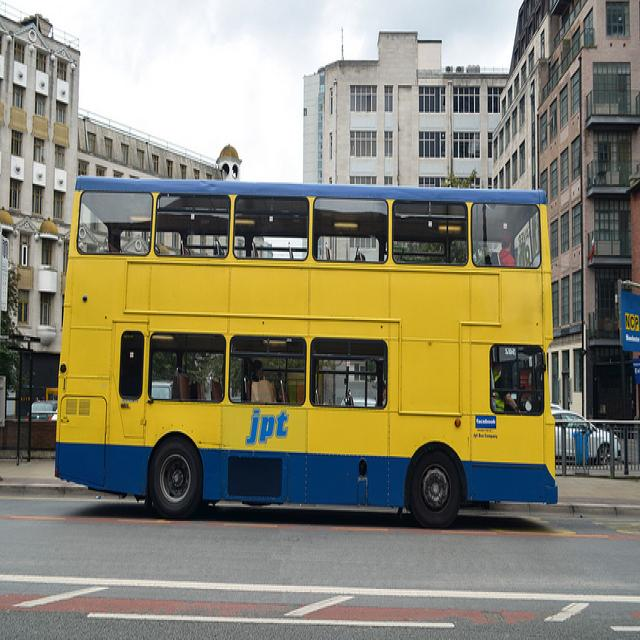Vehicle: (61, 174, 568, 520), (552, 410, 622, 467), (27, 402, 57, 420), (551, 403, 570, 414)
